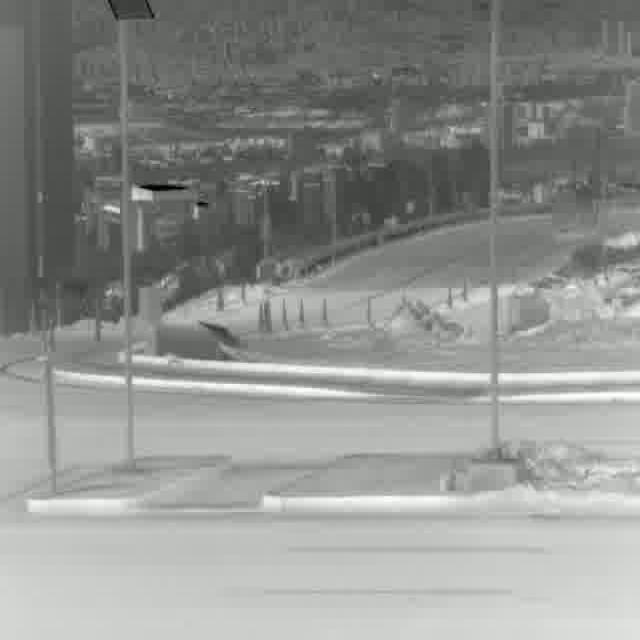Car: (552, 185, 596, 240)
